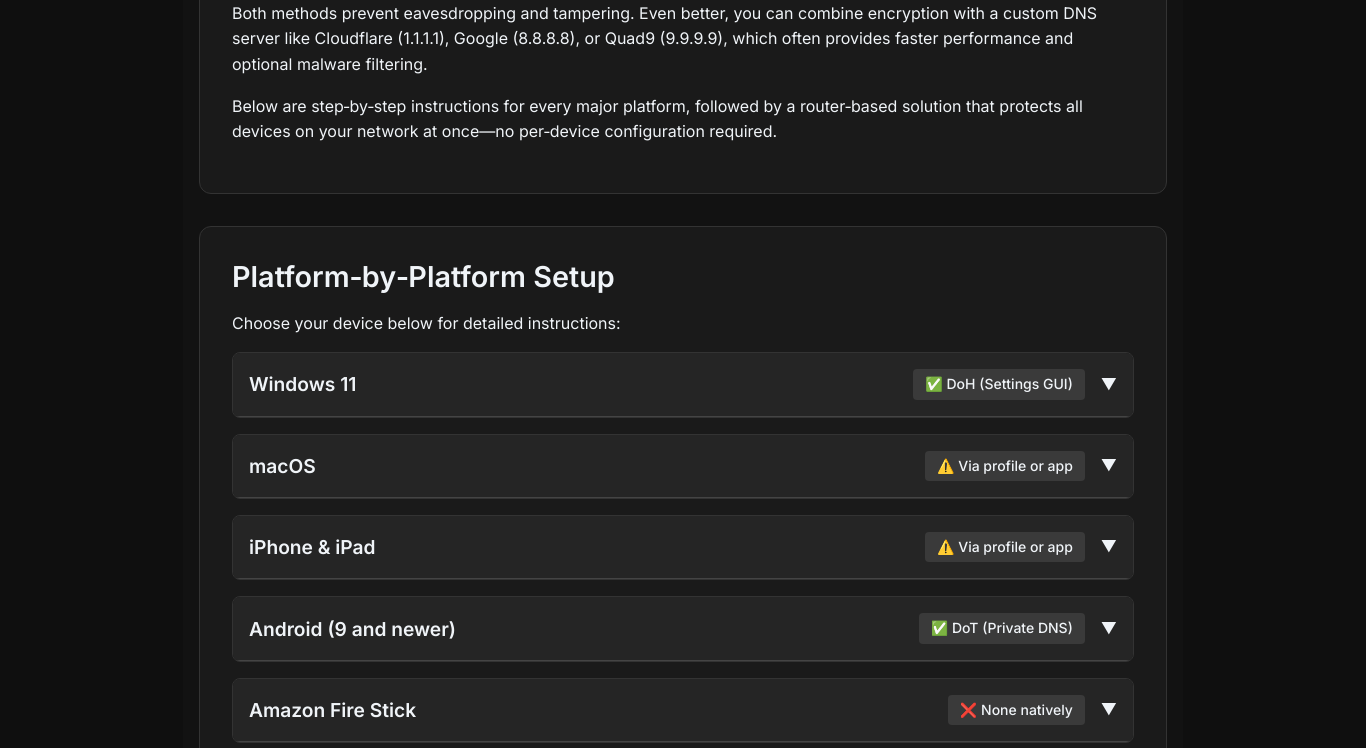
it: dns-guide.jsx › allows multiple cards to be open simultaneously
(page scrolled)
Click the text "Windows 11" at coordinates (683, 385), box [233,353,1133,417]
(page scrolled)
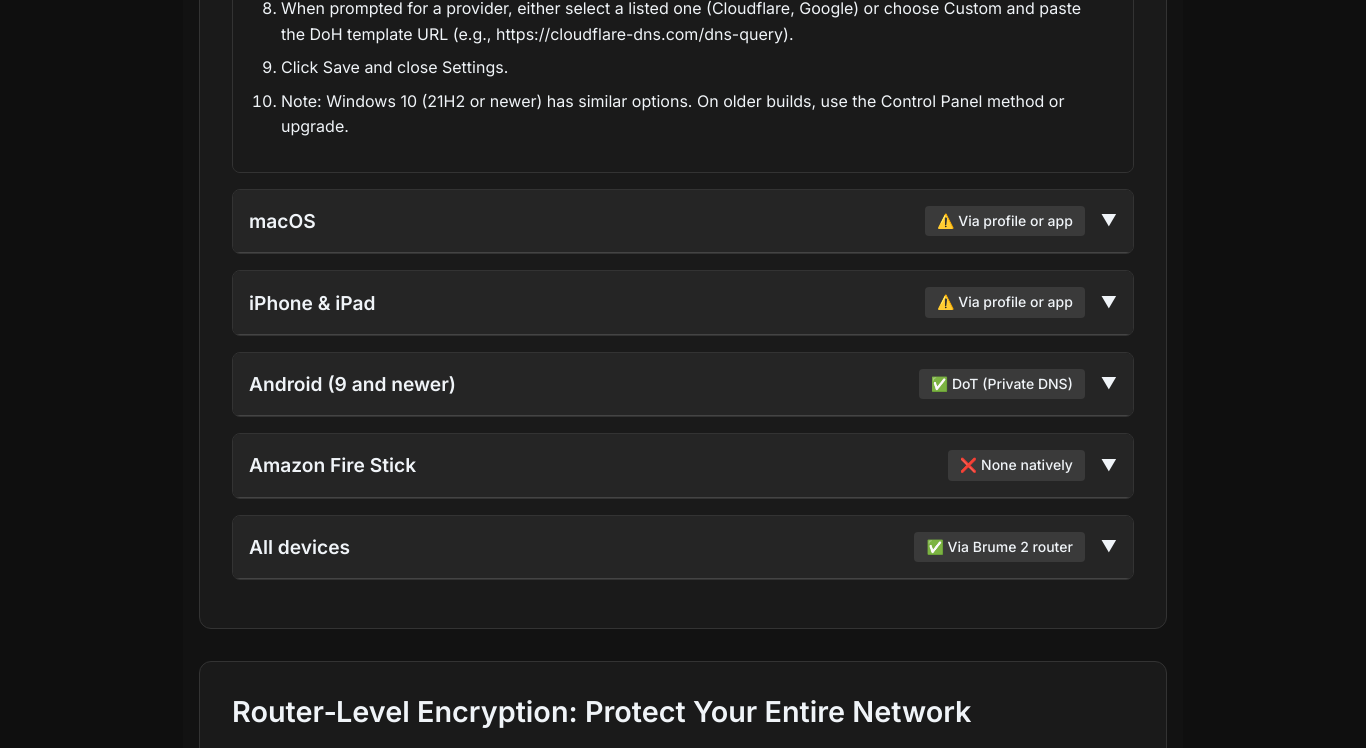
Click the text "Android (9 and newer)" at coordinates (683, 384), box [233,353,1133,416]
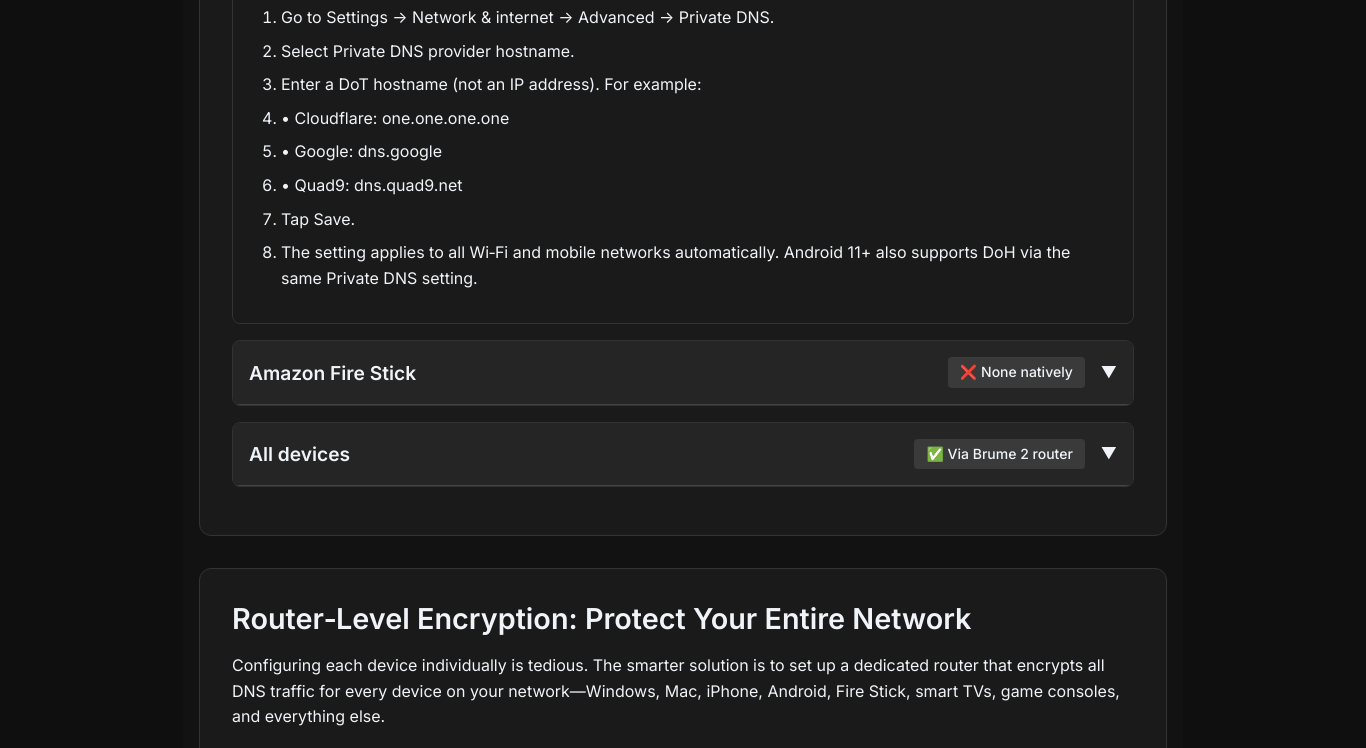
expect the list item "Enter a DoT hostname (not an IP address). For example:" is shown: met, box [281,74,702,94]
